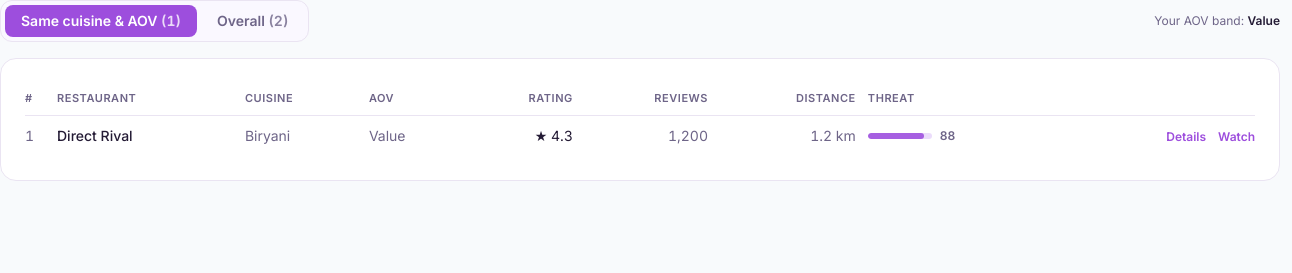
Scenario: TopThreatsView › expand reveals strengths/weaknesses
The width and height of the screenshot is (1292, 273).
What coordinates should you click on to do the following:
click the button "Details"
I would click on:
 (1186, 137)
Its box is [1166,129,1206,145].
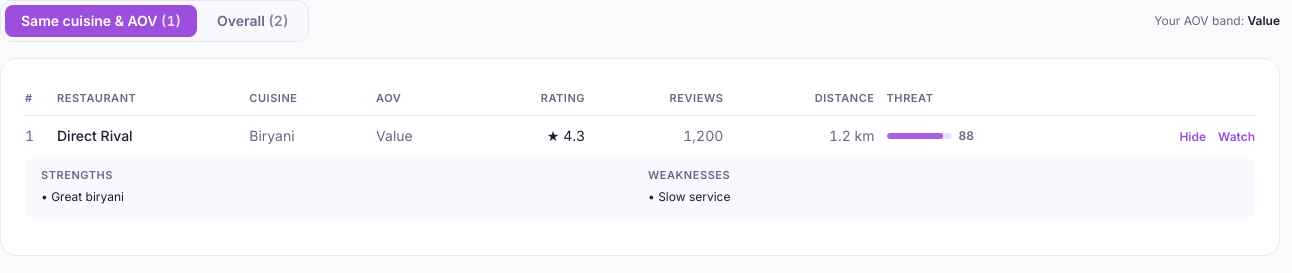
Expected: the list item "Great biryani" is shown, [51,189,124,204]
Expected: the list item "Slow service" is shown, [658,189,730,204]
